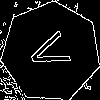V: (26, 26, 80, 75)
